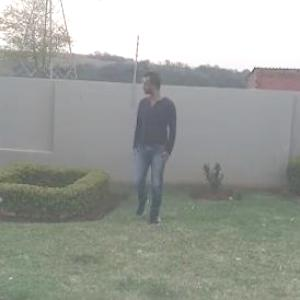follow: (123, 65, 174, 243)
